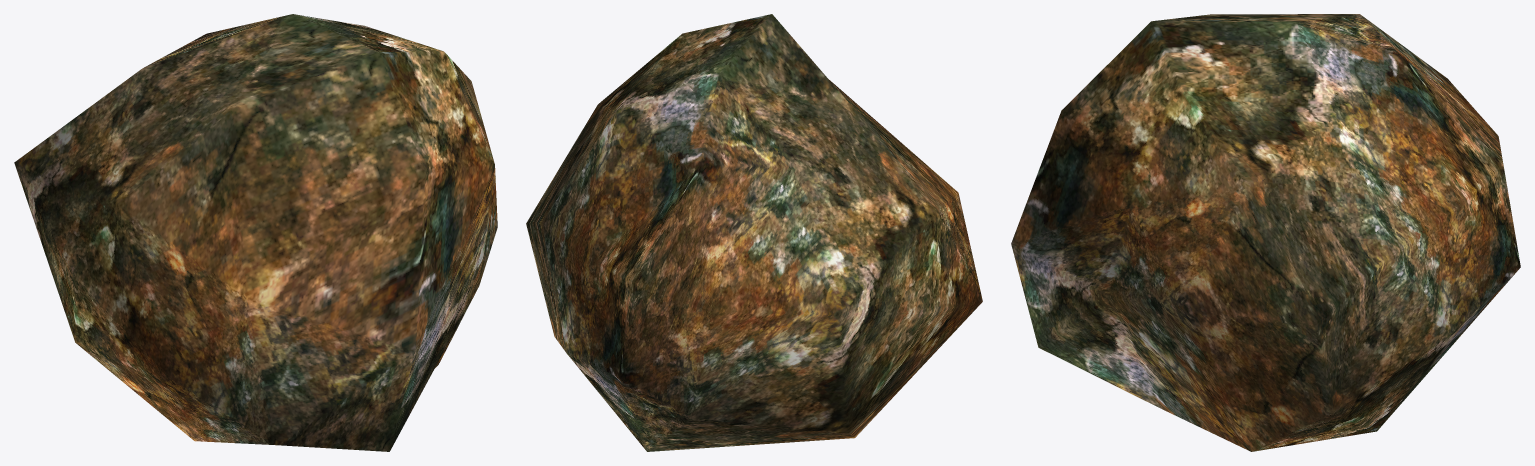
Rendered from c_stone10.glb.
3 views of the same model, side by side, from view 1: azimuth 30°, elevation 25°; view 2: azimuth 150°, elevation 25°; view 3: azimuth 270°, elevation 25° (orthographic). The views are drawn at different scales.
Visible parts, largest first — view 1: c_stone10-col; view 2: c_stone10-col; view 3: c_stone10-col.
Part boxes in pixels (x1=…): c_stone10-col: x1=14, y1=14, x2=497, y2=451; c_stone10-col: x1=526, y1=14, x2=982, y2=451; c_stone10-col: x1=1011, y1=14, x2=1520, y2=451.
Bounding box in the file's own units: 0.5683 × 0.5135 × 0.5947.
1 material, 1 textured.
